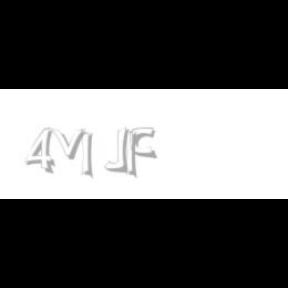4: (24, 128, 56, 174)
I: (82, 128, 94, 180)
J: (104, 128, 128, 172)
c: (130, 128, 158, 160)
l: (125, 128, 141, 180)
v: (50, 128, 90, 160)
